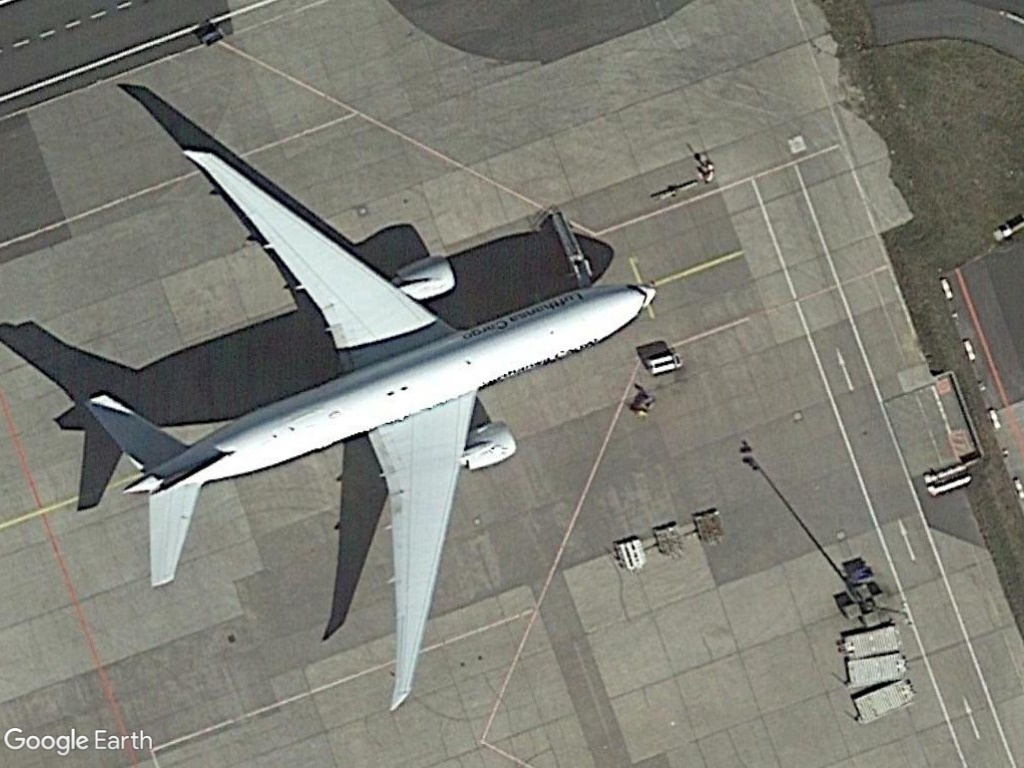airliner: (77, 137, 652, 720)
